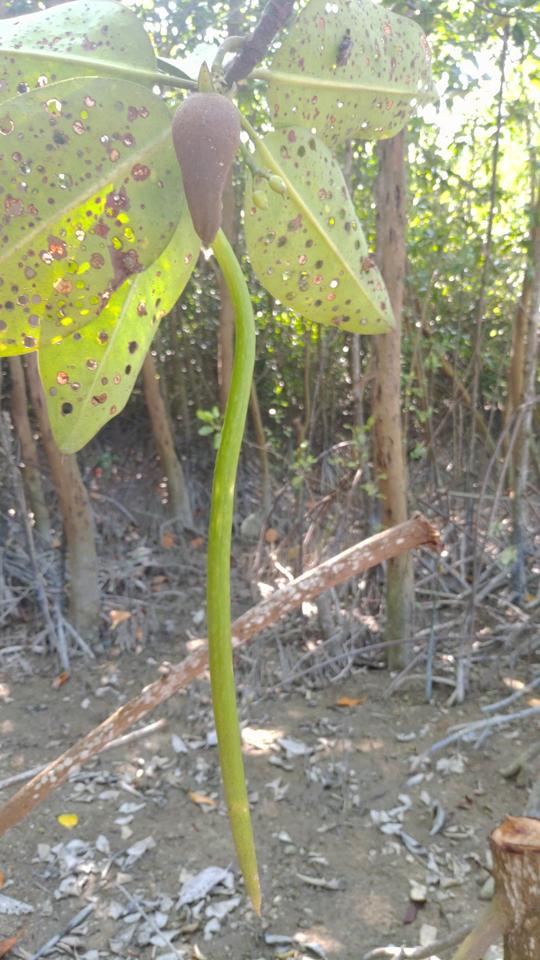mentah: (160, 69, 302, 932)
